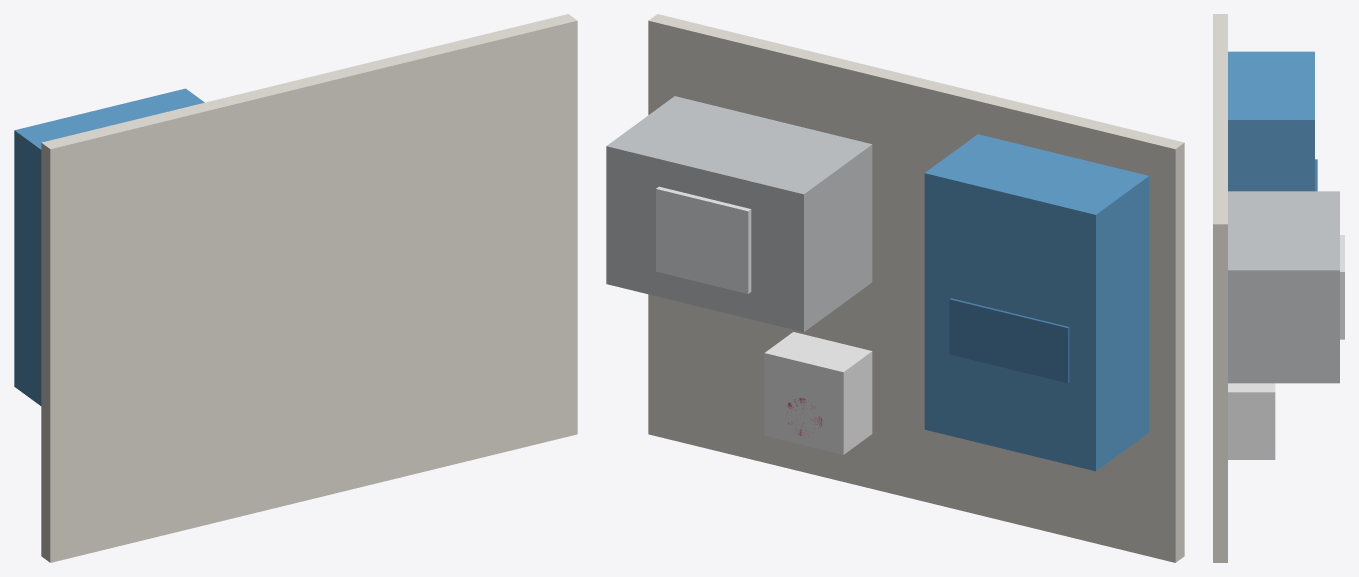
File: board-v2r.glb
The picture shows the model from 3 angles, left to right: view 1: azimuth 30°, elevation 25°; view 2: azimuth 150°, elevation 25°; view 3: azimuth 270°, elevation 25°; orthographic projection. The views are drawn at different scales.
Size of the model in its own units: 400 by 300 by 106.
